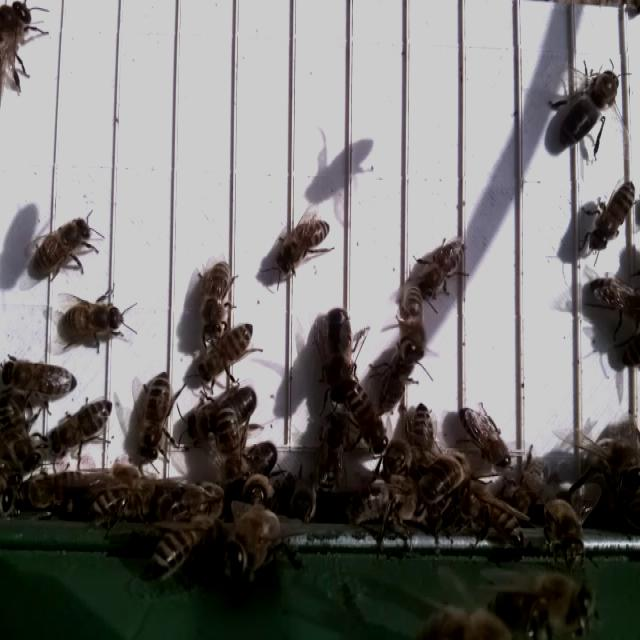Drone: (554, 63, 624, 154), (182, 380, 260, 441), (322, 303, 356, 410)
Worker: (30, 212, 92, 283), (587, 175, 638, 256), (51, 394, 116, 454), (135, 367, 173, 468), (456, 403, 510, 472), (199, 322, 258, 384), (60, 296, 127, 349), (0, 356, 80, 400), (274, 214, 332, 274), (346, 378, 390, 454), (197, 254, 232, 339), (419, 234, 467, 294), (398, 282, 429, 366)
